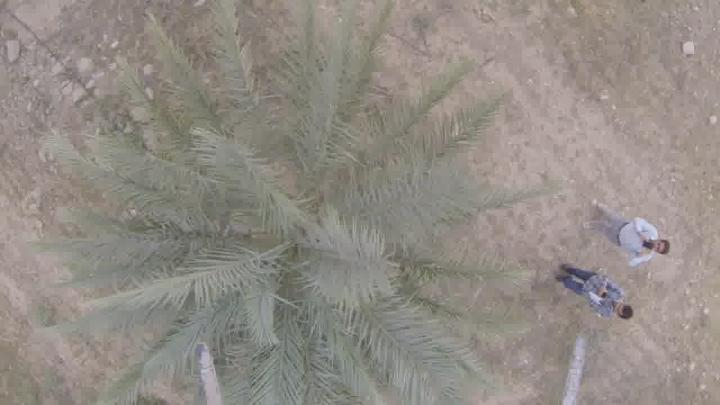Date-Palm-Crown: (144, 84, 440, 384)
